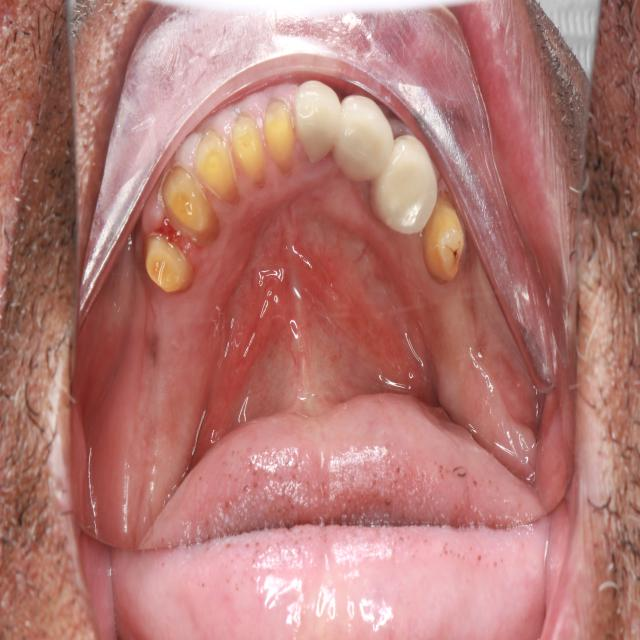tooth: (368, 108, 447, 247), (328, 72, 398, 200), (290, 68, 351, 184), (161, 160, 219, 250), (138, 220, 199, 305), (422, 187, 469, 293), (189, 127, 247, 210), (231, 102, 270, 191), (263, 92, 300, 176)
